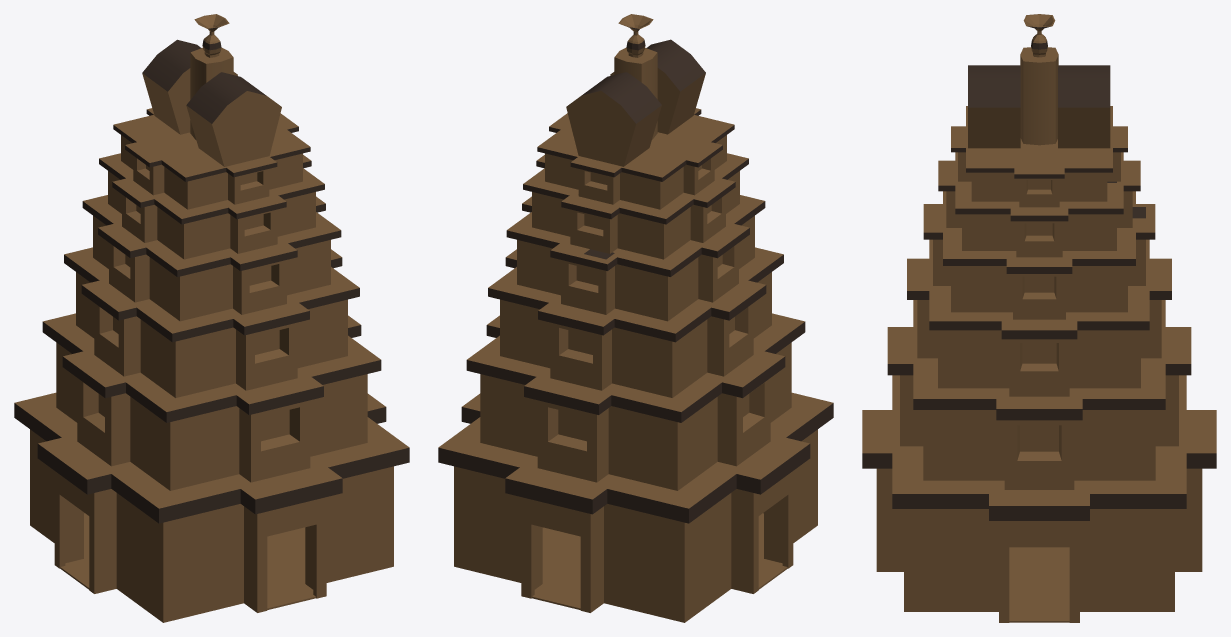
File: TT_Indian_temple.fbx
The picture shows the model from 3 angles, left to right: view 1: azimuth 30°, elevation 25°; view 2: azimuth 150°, elevation 25°; view 3: azimuth 270°, elevation 25°; orthographic projection.
Parts seen in each view (by area): view 1: Temple; view 2: Temple; view 3: Temple.
Part boxes in pixels (<box>): Temple: <box>14,14,409,622</box>; Temple: <box>438,14,833,622</box>; Temple: <box>862,14,1216,622</box>.
Size of the model in its own units: 867 by 1455 by 875.
